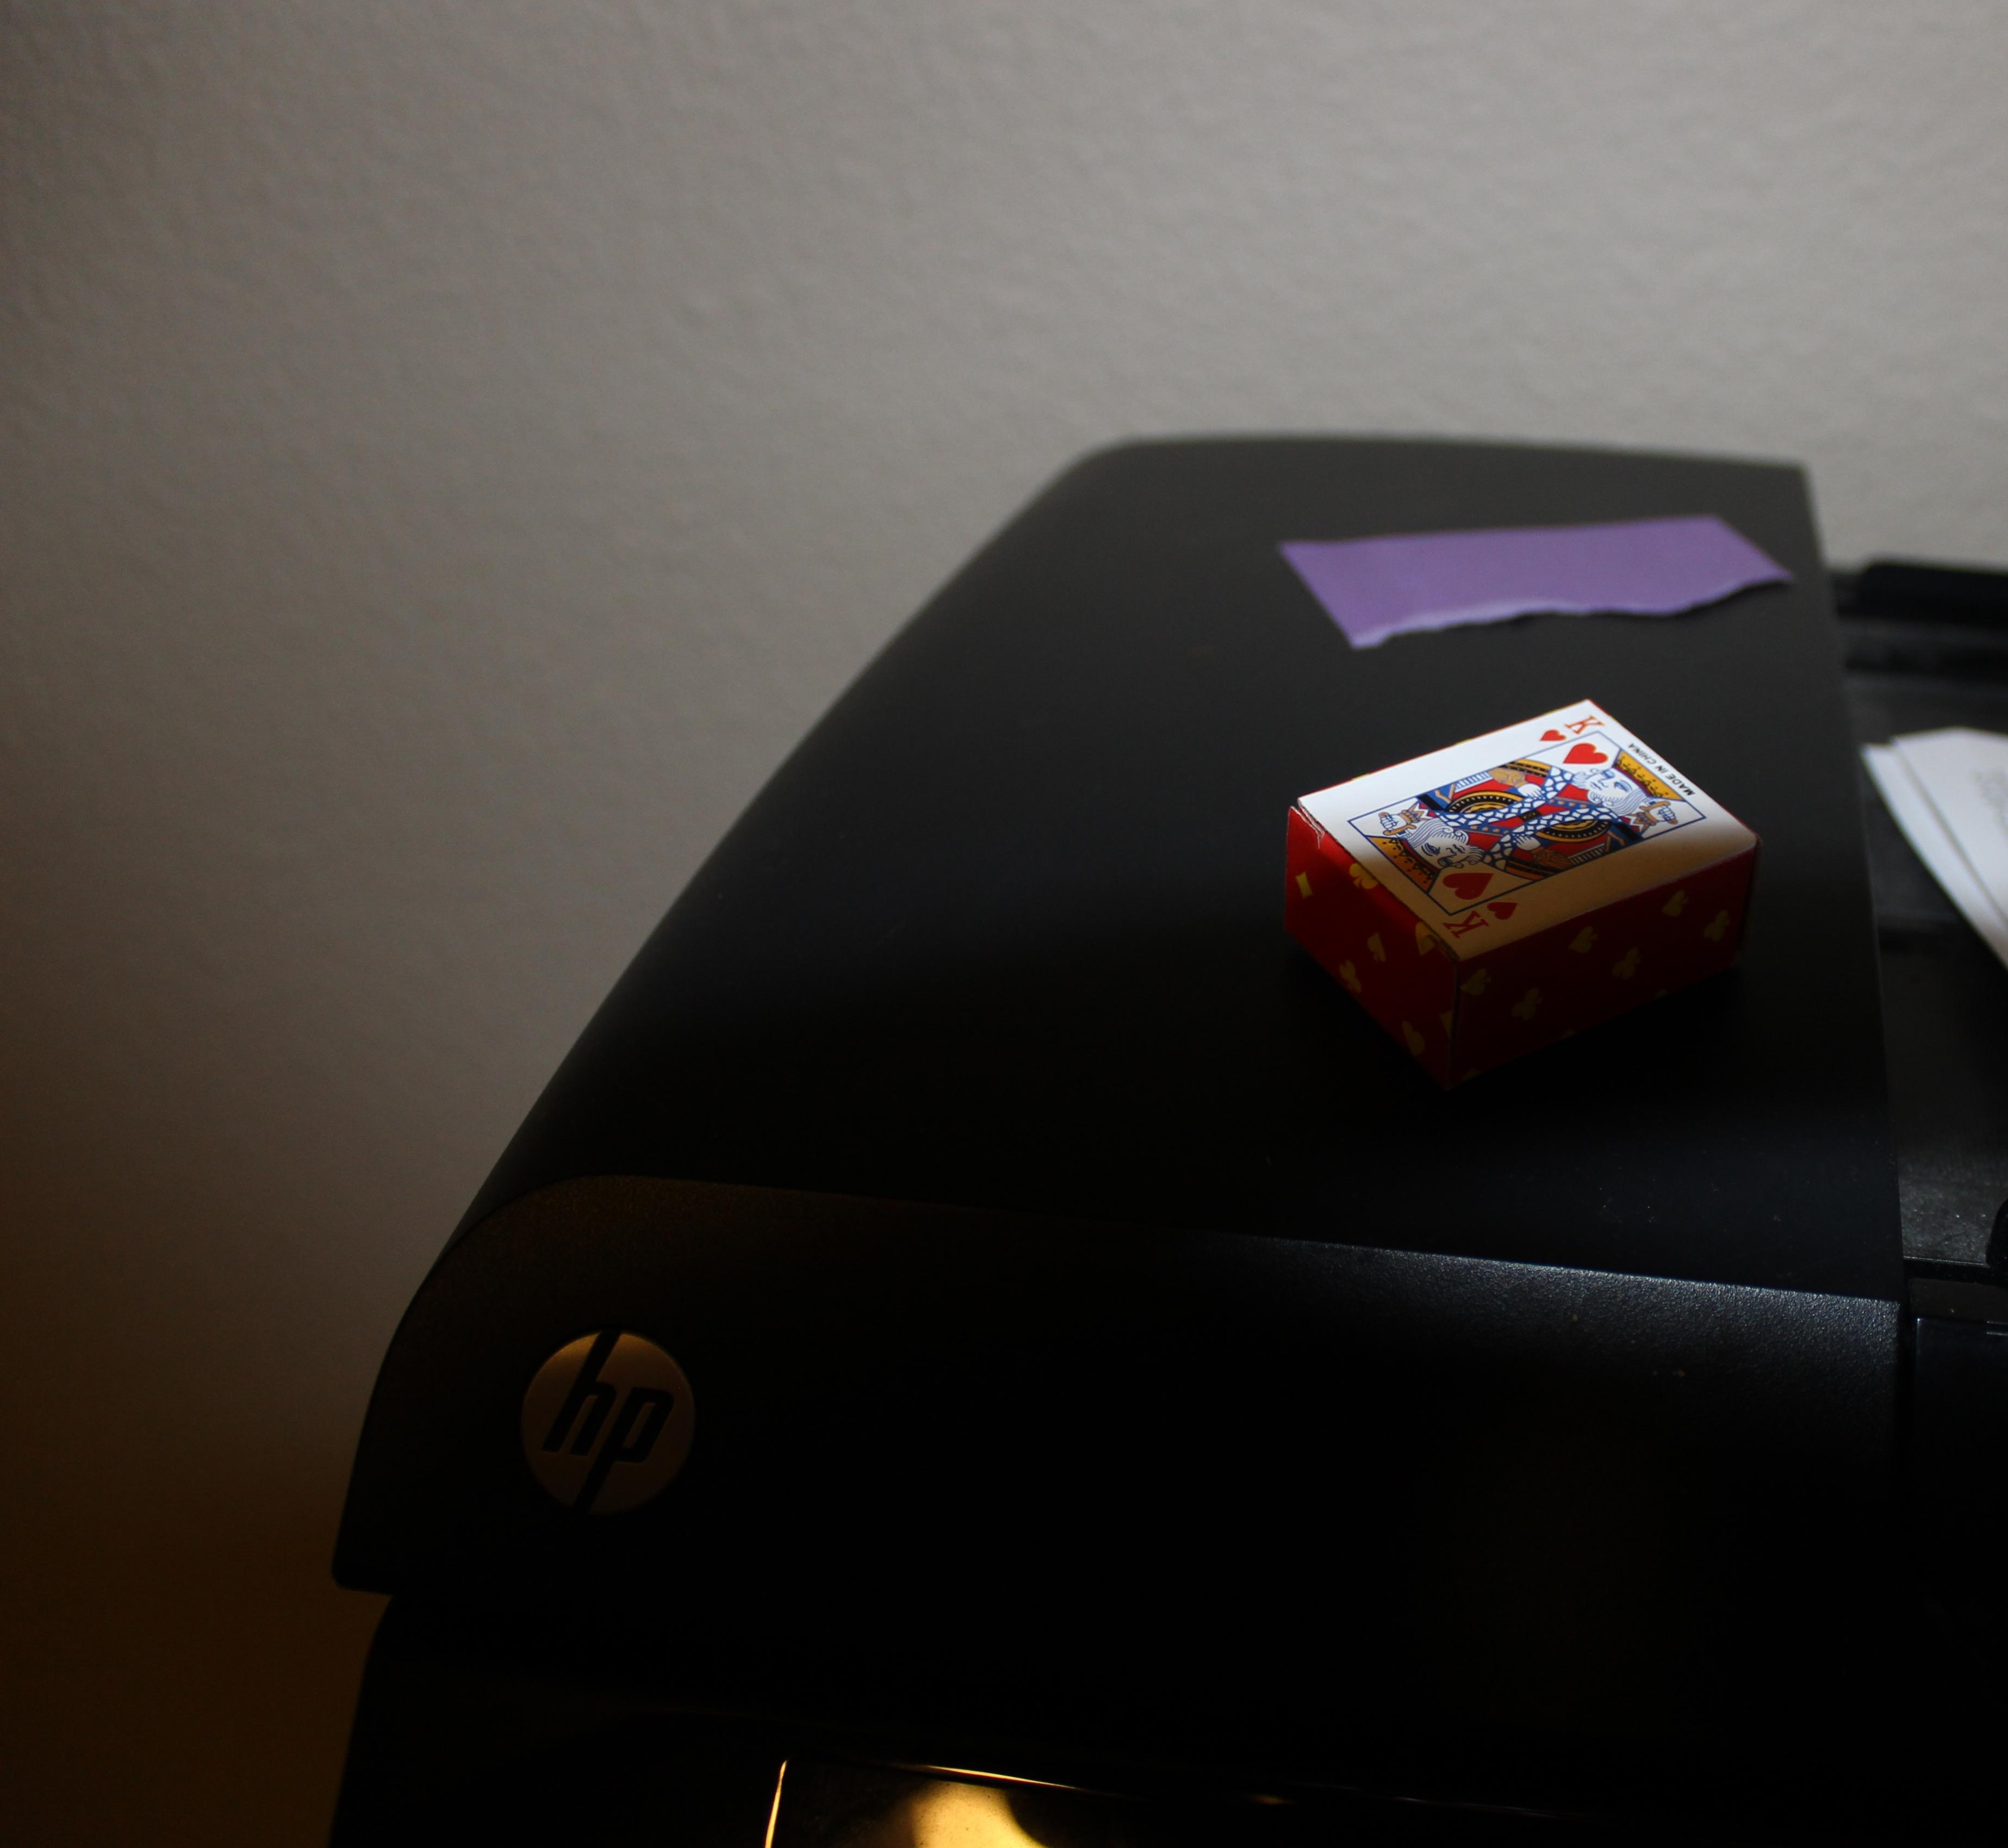miniCards: (1252, 679, 1784, 1038)
